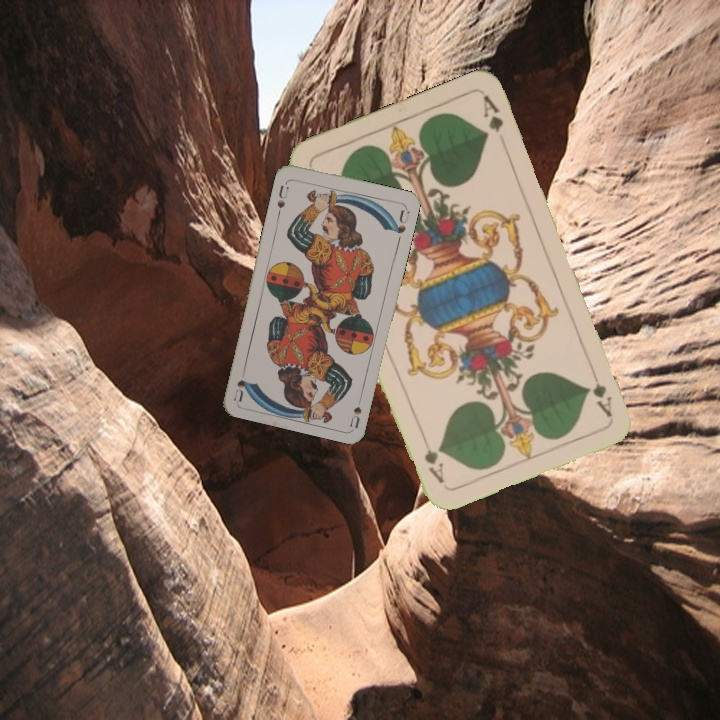GA: (585, 362, 615, 420)
SU: (346, 389, 366, 429), (273, 181, 291, 211)
